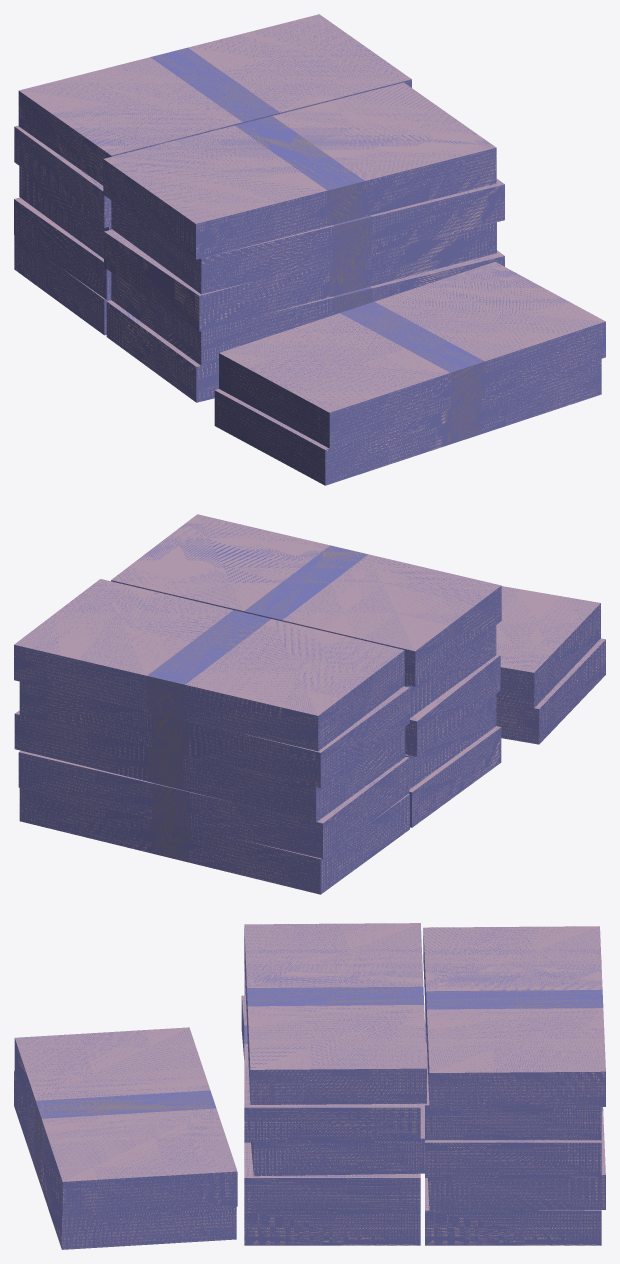
File: Euros1.fbx
3 renders of one model, top to bottom at view 1: azimuth 30°, elevation 25°; view 2: azimuth 150°, elevation 25°; view 3: azimuth 270°, elevation 25°, orthographic.
Parts seen in each view (by area): view 1: G_500_Euro_stack9, G_500_Euro_stack11, G_500_Euro_stack10, G_500_Euro_stack12, G_500_Euro_stack6, G_500_Euro_stack7, G_500_Euro_stack3, G_500_Euro_stack2, G_500_Euro_stack4, G_500_Euro_stack8, G_500_Euro_stack1, G_500_Euro_stack5; view 2: G_500_Euro_stack10, G_500_Euro_stack9, G_500_Euro_stack4, G_500_Euro_stack8, G_500_Euro_stack1, G_500_Euro_stack5, G_500_Euro_stack11, G_500_Euro_stack12, G_500_Euro_stack6, G_500_Euro_stack2, G_500_Euro_stack3, G_500_Euro_stack7; view 3: G_500_Euro_stack11, G_500_Euro_stack10, G_500_Euro_stack9, G_500_Euro_stack12, G_500_Euro_stack7, G_500_Euro_stack3, G_500_Euro_stack5, G_500_Euro_stack1, G_500_Euro_stack6, G_500_Euro_stack8, G_500_Euro_stack4, G_500_Euro_stack2.
Boxes of the visible parts, x1,y1,x2,y2 form: G_500_Euro_stack9: [103, 82, 496, 259]; G_500_Euro_stack11: [219, 261, 605, 448]; G_500_Euro_stack10: [18, 14, 411, 185]; G_500_Euro_stack12: [214, 359, 601, 485]; G_500_Euro_stack6: [104, 222, 496, 331]; G_500_Euro_stack7: [111, 178, 504, 294]; G_500_Euro_stack3: [111, 250, 504, 365]; G_500_Euro_stack2: [106, 300, 218, 402]; G_500_Euro_stack4: [14, 197, 111, 299]; G_500_Euro_stack8: [14, 125, 111, 227]; G_500_Euro_stack1: [14, 235, 111, 335]; G_500_Euro_stack5: [19, 166, 111, 258]; G_500_Euro_stack10: [14, 579, 404, 751]; G_500_Euro_stack9: [111, 514, 501, 686]; G_500_Euro_stack4: [18, 750, 409, 858]; G_500_Euro_stack8: [19, 681, 409, 788]; G_500_Euro_stack1: [19, 788, 409, 894]; G_500_Euro_stack5: [14, 710, 405, 822]; G_500_Euro_stack11: [496, 586, 600, 708]; G_500_Euro_stack12: [496, 638, 605, 744]; G_500_Euro_stack6: [405, 654, 500, 756]; G_500_Euro_stack2: [409, 726, 501, 827]; G_500_Euro_stack3: [405, 694, 496, 789]; G_500_Euro_stack7: [404, 625, 496, 717]; G_500_Euro_stack11: [14, 1027, 237, 1216]; G_500_Euro_stack10: [423, 926, 605, 1108]; G_500_Euro_stack9: [244, 923, 426, 1104]; G_500_Euro_stack12: [14, 1070, 236, 1249]; G_500_Euro_stack7: [244, 964, 420, 1142]; G_500_Euro_stack3: [244, 1142, 420, 1212]; G_500_Euro_stack5: [425, 1140, 601, 1177]; G_500_Euro_stack1: [425, 1178, 601, 1245]; G_500_Euro_stack6: [241, 995, 424, 1176]; G_500_Euro_stack8: [425, 960, 601, 1140]; G_500_Euro_stack4: [428, 1107, 605, 1211]; G_500_Euro_stack2: [244, 1213, 420, 1245].
Size of the model in its own units: 0.1723 by 0.09 by 0.275.
